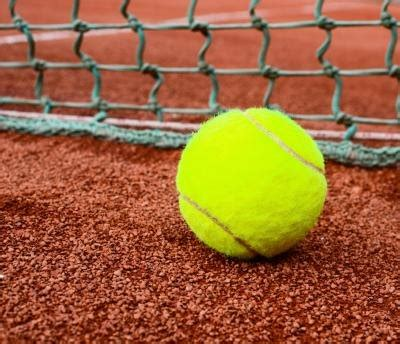tennis_ball: (175, 106, 328, 261)
